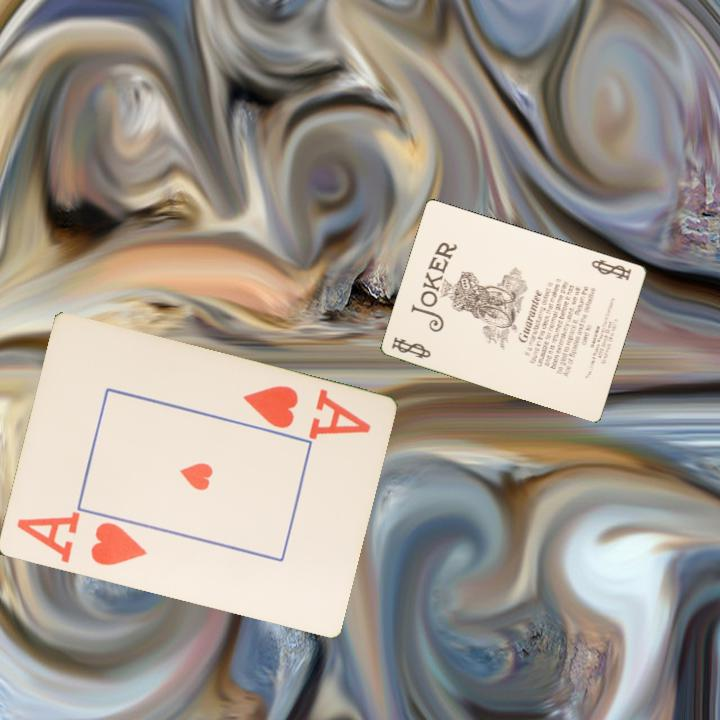Ah: (12, 509, 150, 569), (239, 382, 373, 440)
JK: (388, 333, 434, 362), (588, 255, 634, 283)
